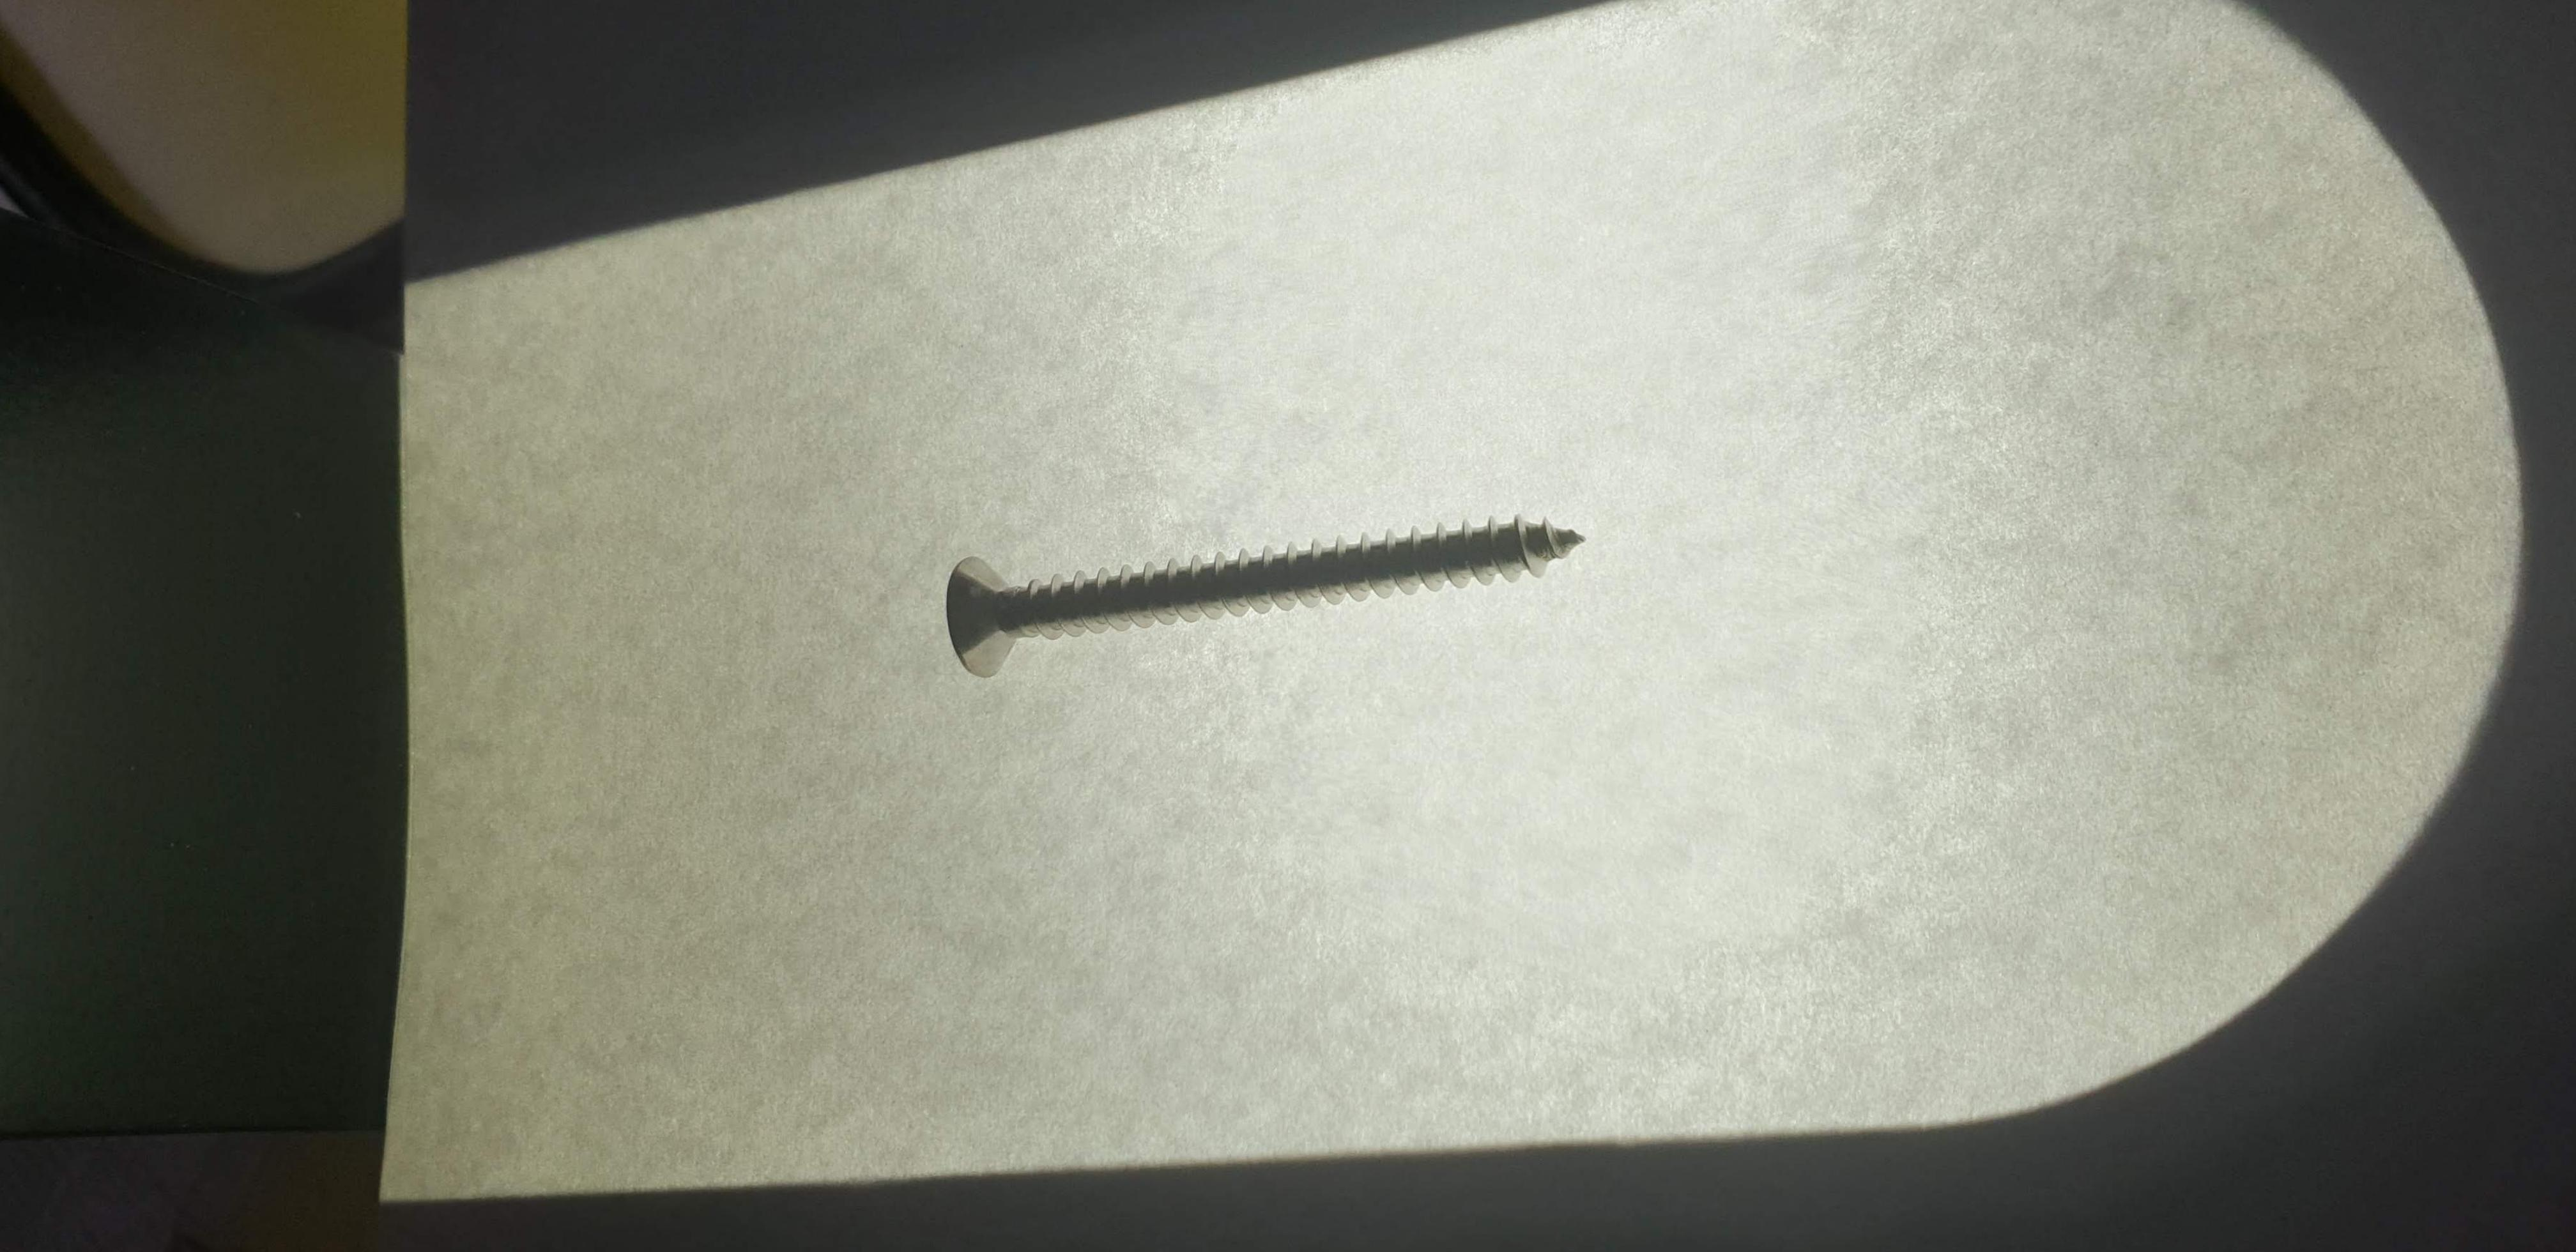S001: (892, 483, 1633, 707)
